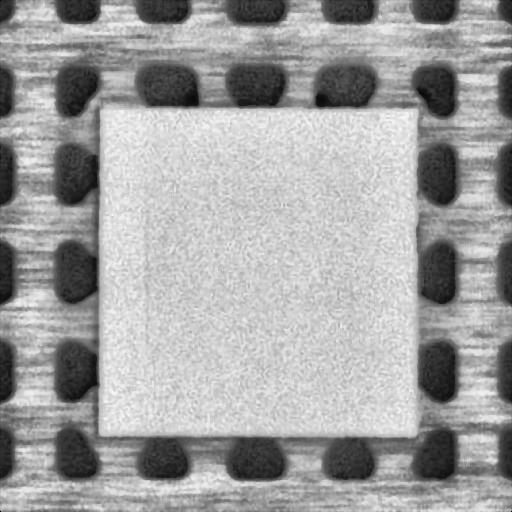DIE_CRACK: (138, 208, 152, 349)
